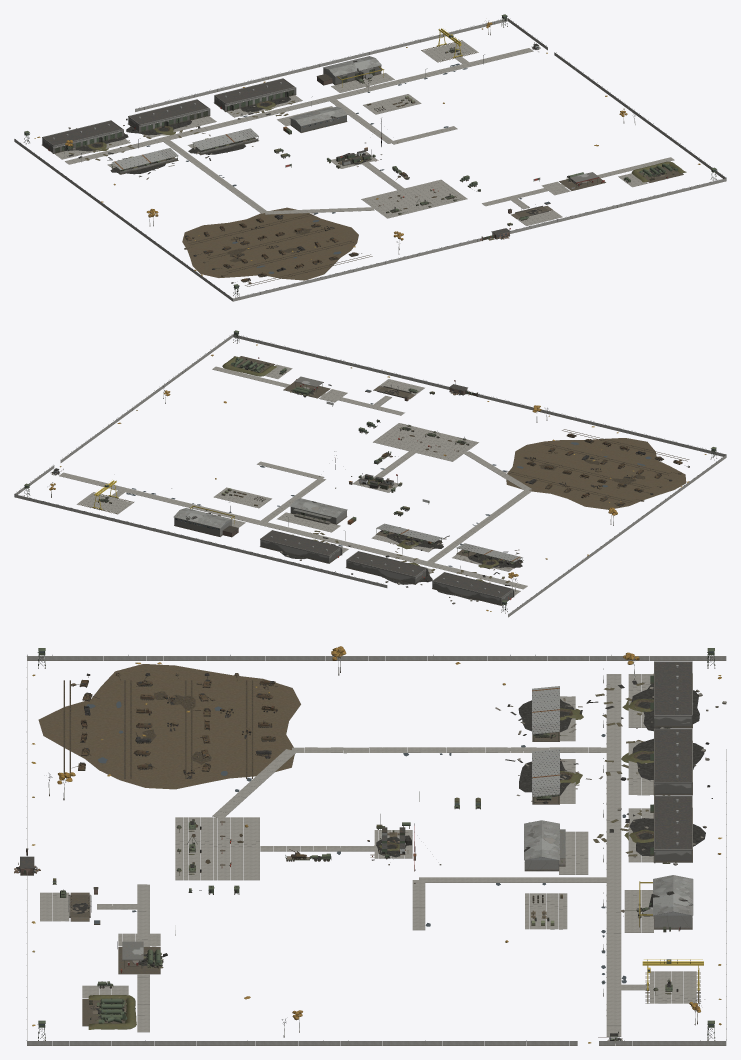
Rendered from site_wreck_a.glb.
The picture shows the model from 3 angles, top to bottom: view 1: azimuth 30°, elevation 25°; view 2: azimuth 150°, elevation 25°; view 3: azimuth 270°, elevation 25°; orthographic projection. The views are drawn at different scales.
Parts seen in each view (by area): view 1: deco|tile_conc, deco|A_A, deco|tile_po2, b_box3|A_A, b_box2|A_A, b_box1|A_A, b_shop|A_A, b_shelter2|A_A, b_shelter1|A_A, b_store_ruin|A_B, b_store|A_A, b_gsm|A_A (+4 smaller); view 2: deco|A_A, deco|tile_conc, deco|tile_po2, b_box3|A_A, b_box2|A_A, b_box1|A_A, b_shop|A_A, b_shop_ruin|A_B, b_store|A_A, b_shelter1|A_A, b_gsm|A_A, b_store_ruin|A_B (+5 smaller); view 3: deco|tile_conc, deco|A_A, deco|tile_po2, b_box1|A_A, b_box2|A_A, b_box3|A_A, b_shop_ruin|A_B, b_shelter1|A_A, b_shelter2|A_A, b_box3_ruin|A_B, b_gsm|A_A, b_store_ruin|A_B (+10 smaller).
Part boxes in pixels (x1,y1,x2,y2): deco|tile_conc: (54,41,674,225); deco|A_A: (15,14,726,297); deco|tile_po2: (14,18,726,301); b_box3|A_A: (214,78,296,111); b_box2|A_A: (128,99,210,132); b_box1|A_A: (42,120,123,153); b_shop|A_A: (316,56,384,87); b_shelter2|A_A: (192,128,258,155); b_shelter1|A_A: (112,148,178,174); b_store_ruin|A_B: (290,107,347,132); b_store|A_A: (290,106,347,132); b_gsm|A_A: (631,161,686,182); deco|A_A: (15,330,716,613); deco|tile_conc: (59,364,531,595); deco|tile_po2: (14,334,726,617); b_box3|A_A: (260,530,342,563); b_box2|A_A: (346,551,428,584); b_box1|A_A: (432,572,514,605); b_shop|A_A: (174,506,238,537); b_shop_ruin|A_B: (174,506,238,536); b_store|A_A: (290,499,347,524); b_shelter1|A_A: (456,543,522,568); b_gsm|A_A: (222,356,276,376); b_store_ruin|A_B: (290,498,347,524); deco|tile_conc: (40,674,696,1036); deco|A_A: (26,648,726,1043); deco|tile_po2: (27,656,726,1045); b_box1|A_A: (650,661,692,728); b_box2|A_A: (650,728,692,795); b_box3|A_A: (650,795,692,863); b_shop_ruin|A_B: (621,875,693,932); b_shelter1|A_A: (532,686,567,741); b_shelter2|A_A: (532,748,565,804); b_box3_ruin|A_B: (593,808,706,865); b_gsm|A_A: (82,995,136,1029); b_store_ruin|A_B: (524,820,565,871).
Size of the model in its own units: 431 by 25.5 by 337.
Materials: 45 (30 with a texture image).
